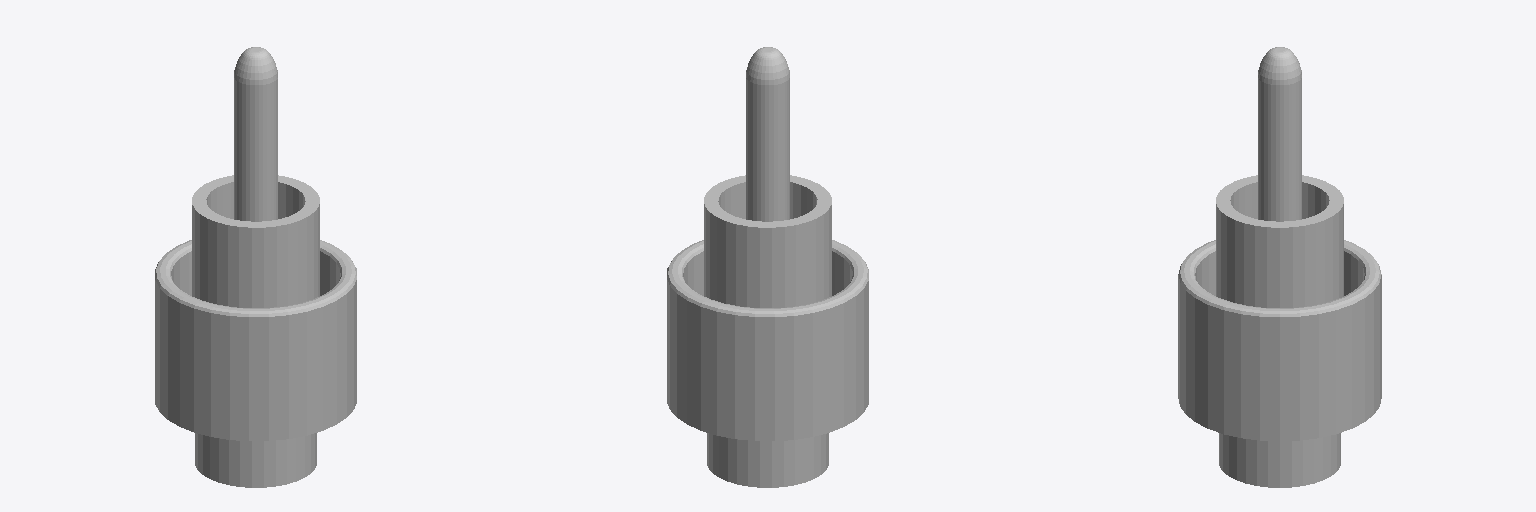
File: plug.obj
3 renders of one model, left to right at view 1: azimuth 30°, elevation 25°; view 2: azimuth 150°, elevation 25°; view 3: azimuth 270°, elevation 25°, orthographic.
Visible parts, largest first — view 1: Cylinder.001_Cylinder.002; view 2: Cylinder.001_Cylinder.002; view 3: Cylinder.001_Cylinder.002.
Boxes of the visible parts, x1,y1,x2,y2 form: Cylinder.001_Cylinder.002: [155, 47, 356, 487]; Cylinder.001_Cylinder.002: [667, 47, 868, 487]; Cylinder.001_Cylinder.002: [1178, 47, 1381, 487].
Size of the model in its own units: 0.886 by 1.98 by 0.886.